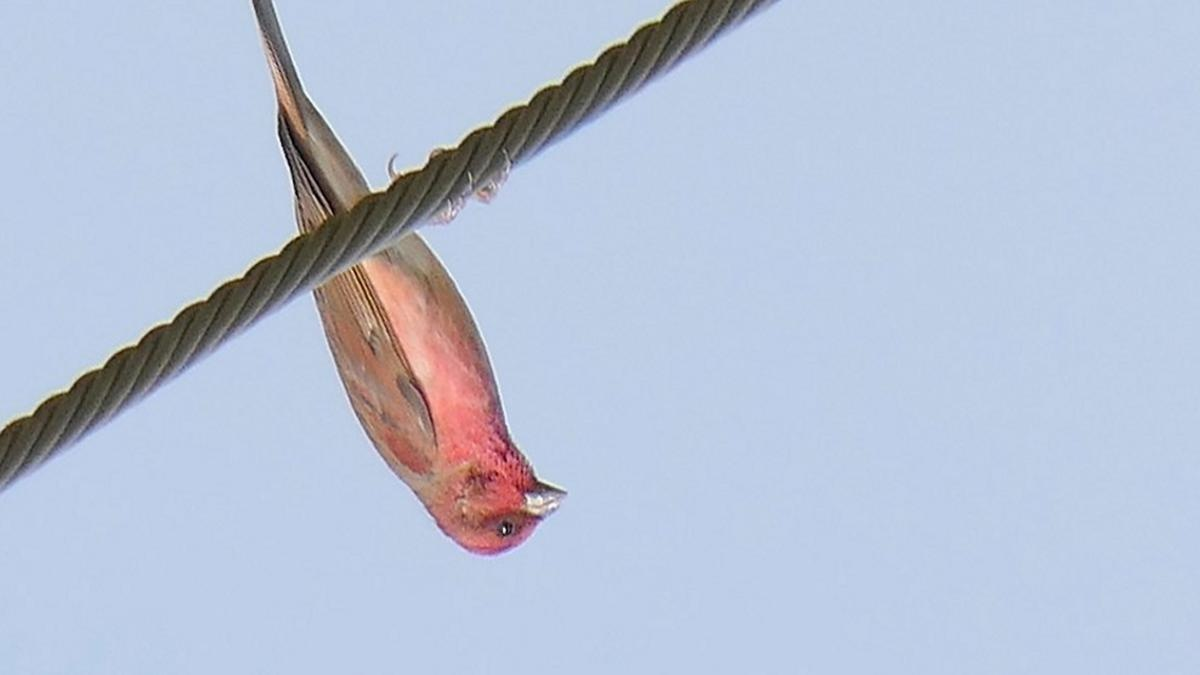rosefinch: (269, 81, 576, 567)
